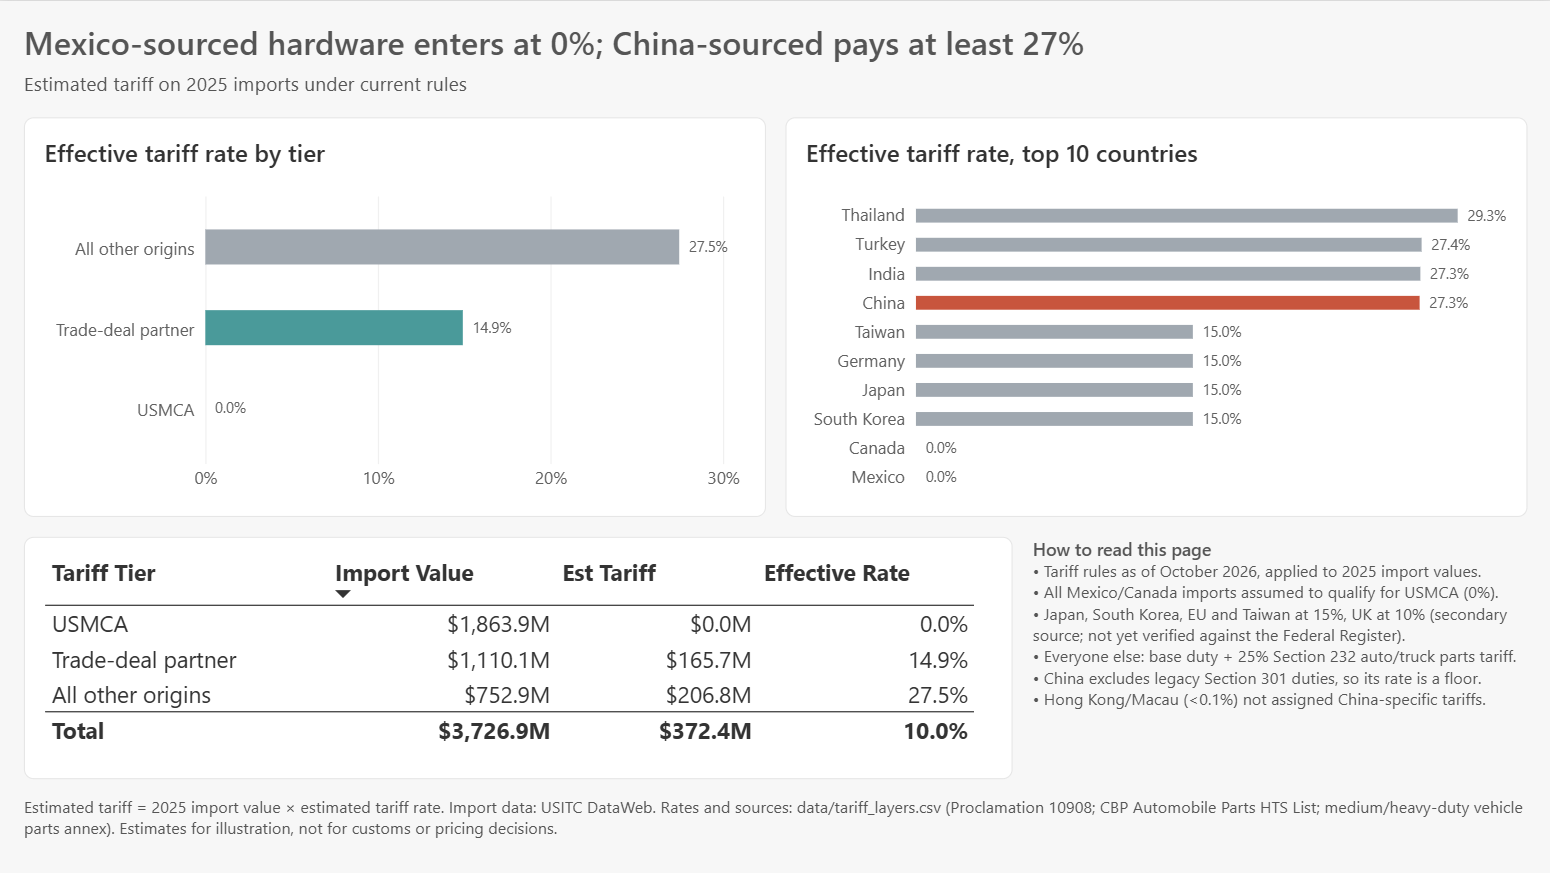

This screenshot's page, from the dashboard's own definition file:
{"tool":"powerbi","page":{"name":"What it costs","canvas":[1280,720],"ordinal":1},"visuals":[{"type":"textbox","box":[20,16,1240,40],"z":0},{"type":"textbox","box":[20,56,1240,24],"z":1000},{"type":"textbox","box":[20,656,1240,44],"z":2000},{"type":"clusteredBarChart","title":"Effective tariff rate by tier","fields":{"Category":["clean vehicle_duty_est.tariff_tier"],"Y":["clean vehicle_duty_est.Effective Rate"]},"box":[20,96,612,330],"z":3000},{"type":"clusteredBarChart","title":"Effective tariff rate, top 10 countries","fields":{"Category":["clean vehicle_duty_est.country"],"Y":["clean vehicle_duty_est.Effective Rate"]},"box":[648,96,612,330],"z":4000},{"type":"tableEx","fields":{"Values":["clean vehicle_duty_est.tariff_tier","clean vehicle_duty_est.Import Value","clean vehicle_duty_est.Est Tariff","clean vehicle_duty_est.Effective Rate"]},"box":[20,442,816,200],"z":5000},{"type":"textbox","box":[852,442,408,200],"z":6000}]}

Visuals, with their boxes in screenshot pixels (x1, y1, x2, y2), scaled from the page's 1280x720 canvas onto the 1550x873 screenshot:
textbox: bbox=[24, 19, 1526, 68]
textbox: bbox=[24, 68, 1526, 97]
textbox: bbox=[24, 795, 1526, 849]
"Effective tariff rate by tier" clusteredBarChart: bbox=[24, 116, 765, 517]
"Effective tariff rate, top 10 countries" clusteredBarChart: bbox=[785, 116, 1526, 517]
tableEx - clean vehicle_duty_est.tariff_tier x clean vehicle_duty_est.Import Value: bbox=[24, 536, 1012, 778]
textbox: bbox=[1032, 536, 1526, 778]
